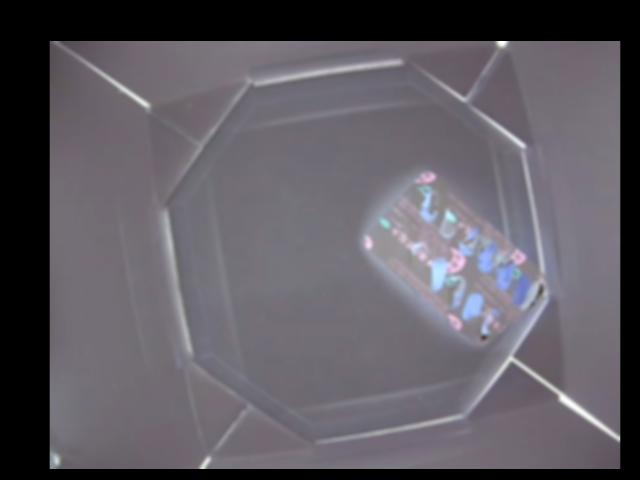Medicine: (361, 168, 549, 342)
